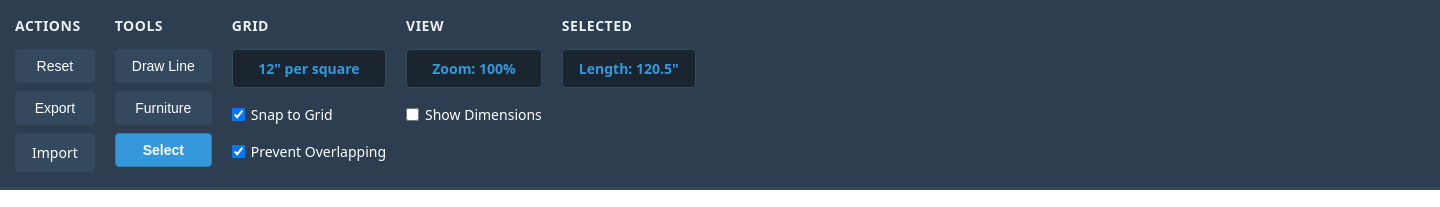
Toolbar › Line length editing › switches to edit mode when length is clicked
Click the text "Length: 120.5\"": coordinates (629, 68) [562,49,696,88]
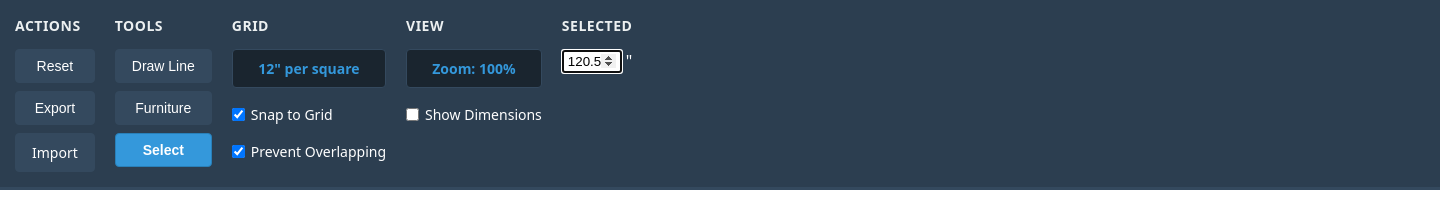
Expected: the number field holds "120.5", [562,50,622,72]
